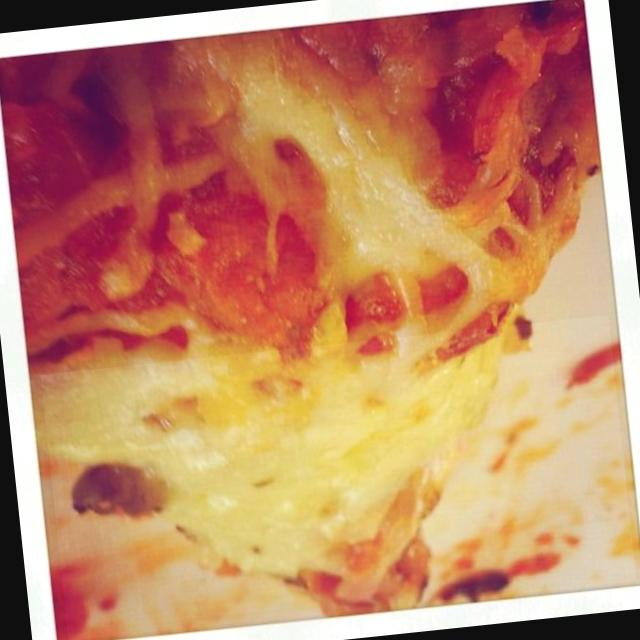cheese: (40, 314, 636, 639), (240, 29, 478, 318)
pizza: (0, 0, 640, 640)
